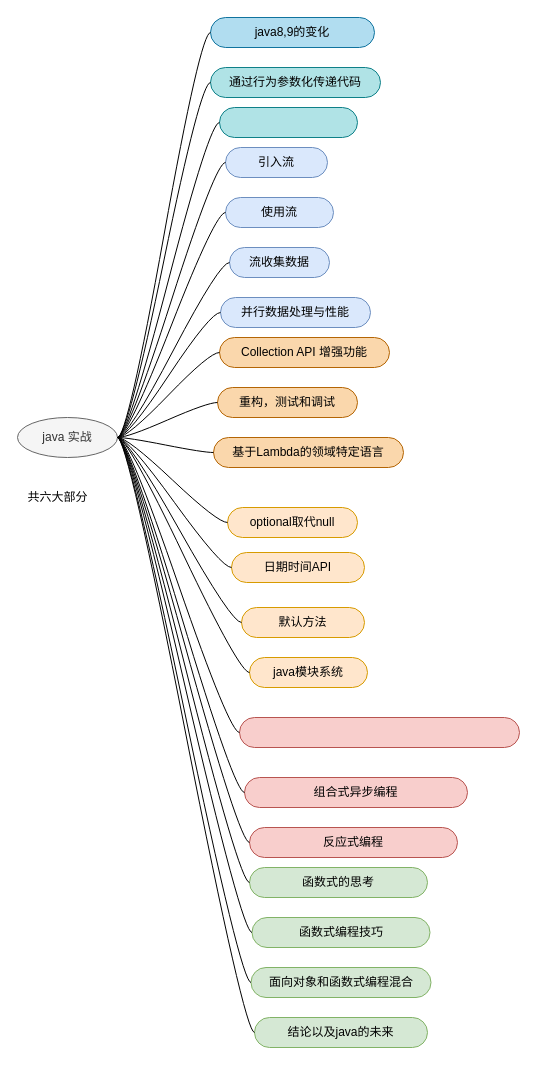
Image size: 537x1065. Some labels were removed from this diagram. The shapes that lost their labels are listed below. From the top down, each one's box as (x1, y1, x2, y2) in pixels, then its label:
(218, 106, 358, 138): Lambda表达式
(238, 716, 520, 748): CompletableFuture 及反应式编程背后的原理
